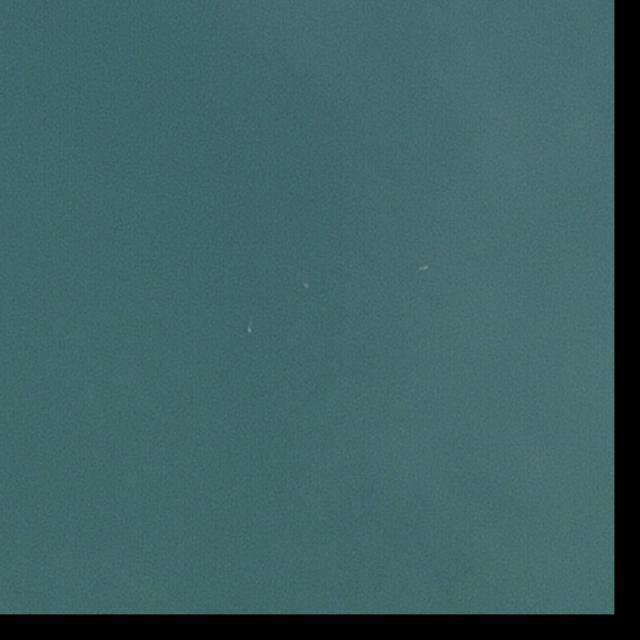ship: (418, 264, 428, 272), (246, 324, 252, 335), (303, 282, 310, 288)
